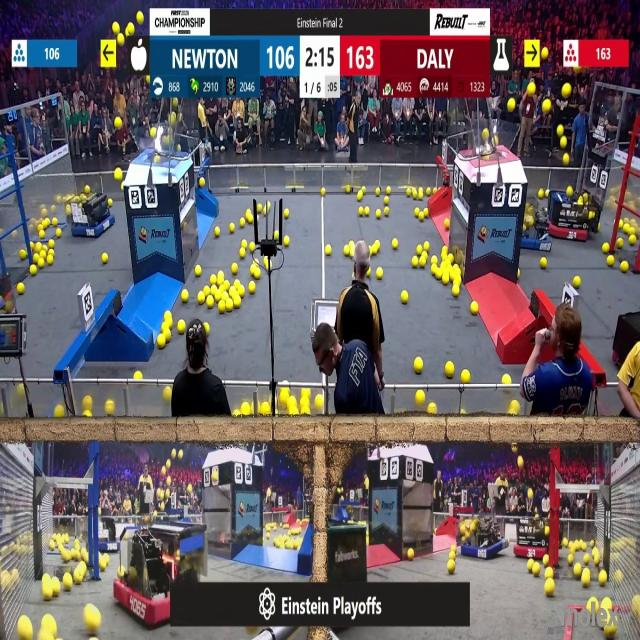ball_airborne: (562, 85, 571, 99), (542, 100, 550, 114), (528, 85, 536, 97), (560, 137, 568, 149), (492, 136, 500, 148), (507, 99, 514, 112), (212, 471, 219, 484), (114, 117, 122, 128), (116, 34, 123, 46), (114, 169, 121, 181), (137, 11, 144, 23), (518, 457, 525, 468), (128, 24, 135, 35), (540, 48, 547, 59), (563, 152, 569, 164), (155, 489, 162, 499), (153, 152, 160, 162), (558, 126, 564, 137), (171, 112, 177, 123), (112, 23, 118, 34), (484, 130, 490, 140), (172, 450, 178, 460), (166, 490, 173, 498), (162, 466, 168, 475), (528, 489, 533, 499), (150, 129, 155, 139), (178, 450, 183, 460), (166, 479, 172, 487), (176, 145, 182, 153), (173, 98, 178, 107), (162, 502, 166, 512), (187, 486, 192, 494), (168, 460, 172, 468)
ball_ground: (87, 610, 101, 636), (544, 581, 554, 598), (604, 625, 615, 640), (582, 570, 592, 586), (416, 390, 426, 405), (42, 586, 52, 601), (53, 582, 62, 598), (446, 361, 455, 376), (105, 402, 114, 417), (598, 570, 606, 586), (64, 578, 73, 592), (511, 400, 520, 414), (415, 357, 423, 372), (262, 404, 272, 416), (74, 571, 83, 584), (461, 371, 470, 383), (56, 408, 65, 420), (82, 396, 91, 408), (165, 387, 172, 402), (448, 561, 456, 574), (315, 395, 323, 408), (159, 336, 167, 349), (532, 563, 540, 576), (301, 397, 311, 407), (178, 320, 185, 334), (400, 290, 408, 302), (572, 276, 580, 288), (30, 266, 38, 278), (428, 404, 436, 416), (572, 564, 580, 576), (443, 274, 451, 286), (242, 405, 250, 417), (469, 303, 476, 316), (16, 283, 24, 294), (622, 263, 630, 274), (544, 567, 552, 578), (165, 328, 173, 339), (63, 551, 71, 562), (218, 302, 225, 314), (181, 290, 188, 302), (235, 296, 242, 308), (100, 558, 107, 570), (452, 286, 460, 296), (369, 245, 377, 255), (408, 550, 415, 561), (377, 269, 384, 280), (606, 255, 613, 266), (249, 282, 256, 293), (602, 243, 609, 254), (419, 256, 426, 267), (539, 257, 546, 268), (225, 301, 232, 312), (207, 296, 214, 307), (198, 292, 205, 303), (81, 551, 88, 562), (194, 266, 200, 278), (302, 388, 310, 397), (502, 375, 509, 385), (629, 236, 636, 246), (445, 218, 452, 228), (217, 273, 224, 283), (528, 560, 533, 574), (413, 256, 419, 267), (345, 246, 351, 257), (205, 322, 211, 333), (254, 269, 260, 280), (215, 226, 221, 237), (602, 598, 608, 609), (165, 320, 173, 328), (42, 573, 50, 581), (289, 408, 297, 416), (135, 370, 142, 379), (102, 253, 108, 263), (328, 242, 333, 254), (211, 275, 217, 285), (239, 287, 245, 297), (619, 239, 625, 249), (249, 242, 255, 252), (19, 250, 25, 260), (542, 556, 548, 566), (228, 222, 234, 232), (240, 218, 246, 228), (585, 555, 591, 565), (568, 555, 574, 565), (32, 240, 38, 250), (200, 178, 206, 188), (375, 242, 381, 252), (165, 312, 172, 320), (46, 255, 52, 264), (377, 209, 383, 218), (431, 255, 437, 264), (435, 272, 441, 281), (358, 207, 364, 216), (413, 188, 419, 197), (562, 537, 568, 546), (223, 281, 229, 290), (624, 223, 630, 232), (588, 602, 594, 611), (594, 556, 600, 565), (419, 212, 425, 221), (365, 270, 371, 279), (231, 287, 237, 296), (284, 237, 289, 247), (233, 265, 238, 275), (392, 240, 397, 250), (241, 248, 246, 258), (424, 242, 429, 252), (417, 245, 422, 255), (419, 188, 424, 198), (83, 412, 90, 419), (46, 249, 53, 256), (274, 232, 280, 240), (204, 286, 210, 294), (450, 552, 456, 560), (211, 286, 217, 294), (39, 232, 45, 240), (51, 217, 57, 225), (425, 187, 431, 195), (235, 411, 241, 419), (284, 209, 289, 218), (235, 280, 240, 289), (431, 266, 436, 275), (39, 258, 44, 267), (265, 256, 270, 265), (48, 240, 53, 249), (415, 208, 420, 217), (248, 214, 253, 223), (449, 254, 454, 263), (384, 208, 390, 215), (108, 200, 114, 207), (305, 409, 311, 416), (40, 250, 46, 257), (538, 189, 543, 197), (384, 198, 389, 206), (242, 240, 247, 248), (33, 254, 38, 262), (357, 194, 362, 202), (346, 185, 351, 193), (58, 230, 62, 239), (257, 205, 261, 214), (630, 223, 634, 232), (460, 411, 466, 417), (386, 187, 391, 194), (376, 188, 381, 195), (442, 253, 447, 260), (424, 209, 428, 217), (620, 220, 624, 228), (543, 189, 547, 197), (264, 208, 268, 216), (320, 188, 324, 195), (452, 543, 456, 550), (444, 247, 448, 254), (268, 203, 272, 210), (119, 184, 123, 190)
goal: (466, 124, 521, 160), (132, 128, 190, 162)
robot_blue: (69, 187, 115, 239), (461, 515, 509, 559), (520, 200, 552, 251), (96, 515, 121, 553)
robot_red: (114, 524, 172, 625), (549, 188, 598, 240), (514, 514, 551, 558)
